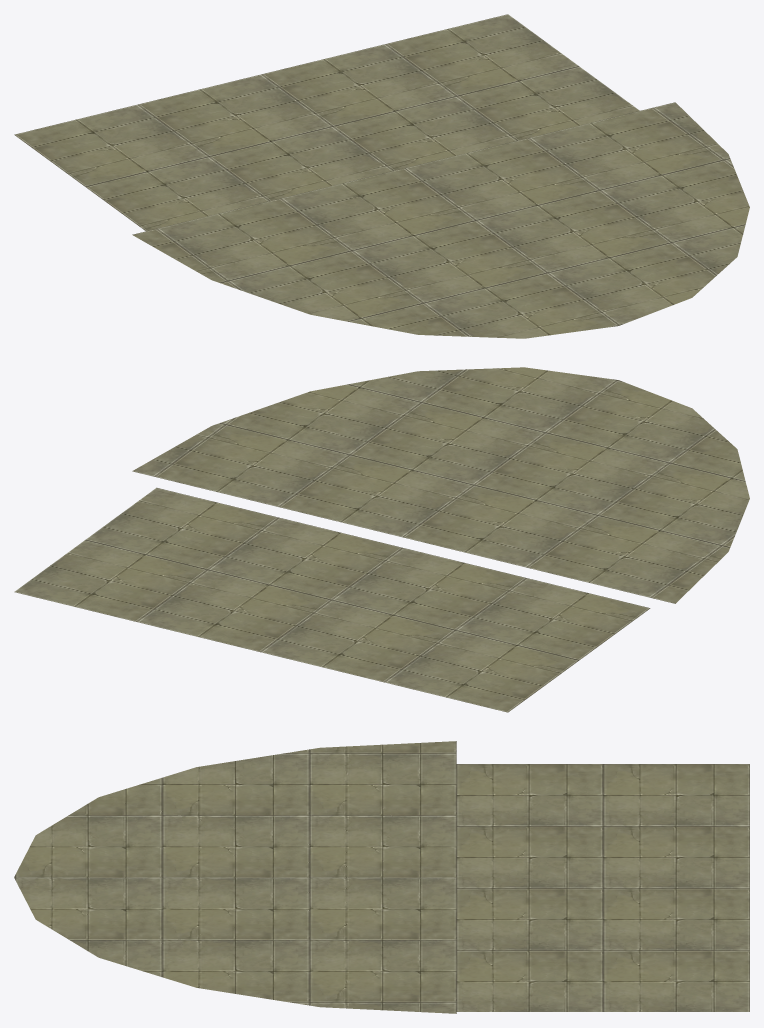
File: Floor_Maincity_001.FBX
3 views of the same model, one above another, from view 1: azimuth 30°, elevation 25°; view 2: azimuth 150°, elevation 25°; view 3: azimuth 270°, elevation 25° (orthographic). The views are drawn at different scales.
Visible parts, largest first — view 1: Floor_Maincity_001; view 2: Floor_Maincity_001; view 3: Floor_Maincity_001.
Part boxes in pixels (<box>): Floor_Maincity_001: <box>14,14,749,338</box>; Floor_Maincity_001: <box>14,367,749,712</box>; Floor_Maincity_001: <box>14,741,749,1013</box>.
Bounding box in the file's own units: 2200 × 40 × 2509.
Materials: 1 (1 with a texture image).
